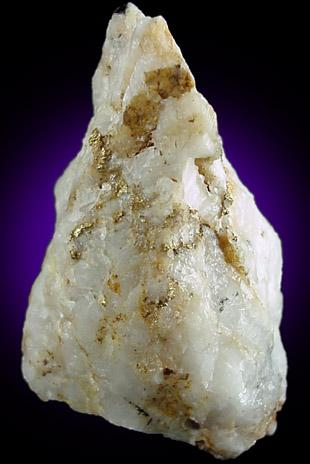gold: (89, 65, 194, 198), (129, 190, 204, 255), (153, 368, 190, 414), (141, 284, 175, 324), (216, 230, 245, 276), (70, 221, 96, 258)
